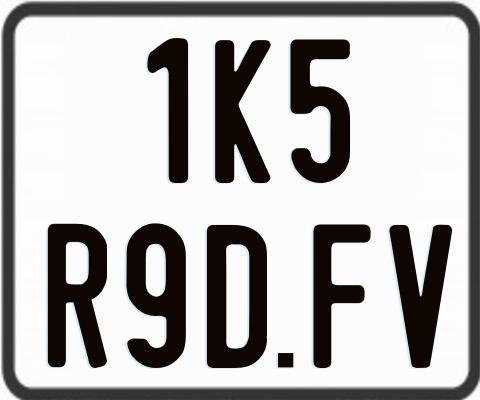1: (146, 37, 192, 183)
5: (289, 36, 353, 184)
9: (126, 221, 187, 367)
D: (207, 225, 270, 369)
F: (313, 223, 371, 369)
K: (212, 38, 272, 181)
R: (46, 221, 107, 366)
V: (386, 225, 450, 372)
